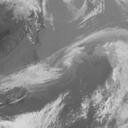cyclone: (3, 28, 127, 126)
